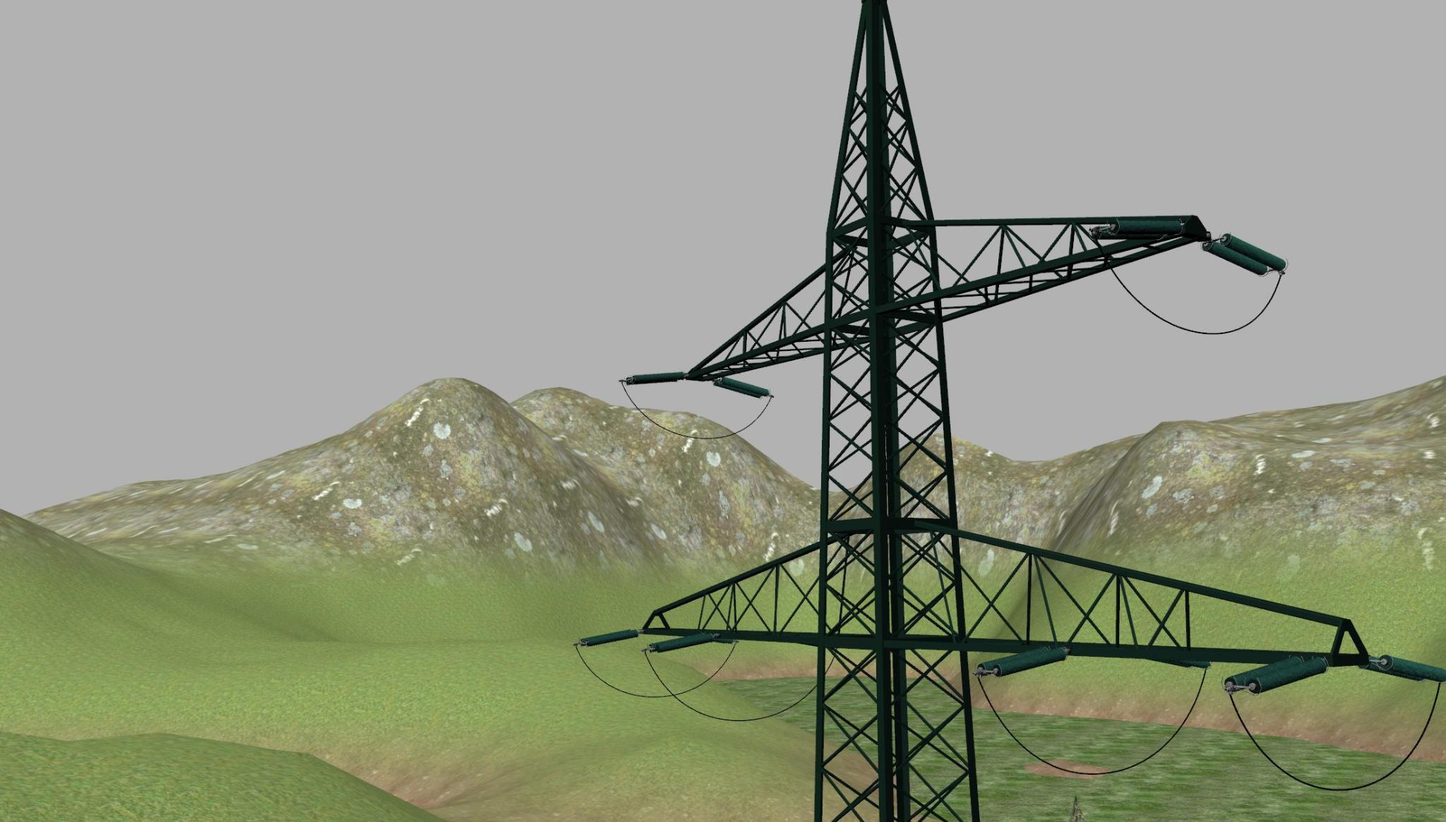tower: (655, 1, 1370, 822)
